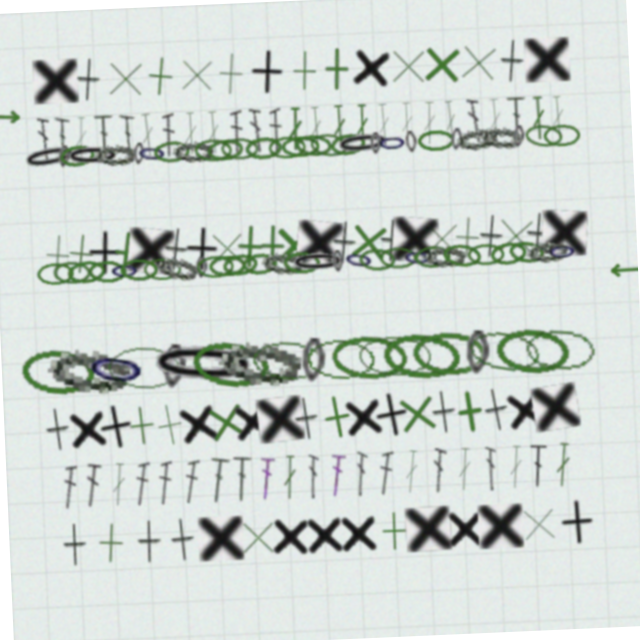chain: (145, 333, 258, 386), (461, 331, 543, 388), (187, 332, 270, 388), (44, 334, 130, 386), (215, 334, 301, 386), (379, 334, 460, 386), (17, 334, 96, 386), (492, 334, 571, 386), (246, 334, 326, 385), (328, 335, 408, 385), (519, 334, 597, 385), (103, 335, 182, 384), (354, 335, 433, 384), (301, 335, 378, 384), (409, 335, 486, 384), (81, 333, 148, 386), (29, 131, 86, 160), (343, 133, 399, 158), (158, 247, 202, 277), (158, 337, 186, 383), (298, 337, 325, 383), (73, 135, 128, 157), (293, 251, 348, 273), (463, 132, 506, 160), (463, 337, 489, 382), (444, 248, 485, 275), (317, 132, 357, 159), (510, 248, 549, 275), (488, 133, 530, 158), (264, 249, 306, 274), (529, 249, 571, 274), (532, 133, 571, 159), (337, 133, 375, 159), (302, 133, 341, 158), (69, 249, 108, 274), (492, 249, 531, 274), (66, 133, 104, 158), (224, 249, 262, 274), (90, 250, 129, 274), (214, 134, 252, 158), (361, 250, 399, 274), (102, 135, 143, 157), (180, 135, 221, 157), (427, 251, 468, 273), (228, 134, 267, 157), (345, 248, 378, 275), (202, 134, 240, 157), (252, 134, 290, 157), (55, 250, 93, 273), (122, 250, 160, 273), (285, 250, 323, 273), (382, 250, 420, 273), (161, 134, 198, 157), (244, 250, 281, 273), (417, 250, 454, 273), (276, 135, 314, 157), (289, 135, 327, 157), (146, 251, 184, 273), (425, 135, 462, 157), (551, 135, 588, 157), (39, 251, 76, 273), (199, 251, 236, 273), (211, 251, 248, 273), (470, 251, 507, 273), (144, 134, 175, 158), (405, 250, 436, 273), (385, 135, 415, 157), (112, 251, 142, 273), (550, 251, 580, 273), (65, 134, 78, 157), (458, 134, 471, 157), (520, 134, 533, 157), (140, 135, 153, 157), (413, 135, 425, 157), (198, 251, 210, 273), (378, 135, 389, 157), (335, 251, 346, 273)
double: (199, 453, 224, 499), (224, 453, 246, 498), (75, 453, 96, 498), (521, 453, 542, 498), (320, 453, 340, 498), (102, 453, 121, 498), (175, 453, 194, 498), (250, 453, 269, 498), (395, 453, 414, 498), (422, 453, 441, 498), (547, 453, 566, 498), (103, 106, 122, 150), (516, 106, 535, 150), (147, 105, 165, 150), (126, 453, 144, 498), (370, 453, 388, 498), (449, 453, 467, 498), (500, 453, 518, 498), (54, 453, 71, 498), (62, 106, 79, 150), (384, 106, 401, 150), (451, 106, 468, 150), (150, 453, 166, 498), (346, 453, 362, 498), (128, 106, 144, 150), (214, 106, 230, 150), (296, 106, 312, 150), (340, 106, 356, 150), (430, 106, 446, 150), (496, 106, 512, 150), (559, 106, 575, 150), (275, 454, 291, 498), (82, 106, 97, 150), (192, 106, 207, 150), (317, 106, 332, 150), (408, 106, 423, 150), (540, 106, 555, 150), (364, 106, 378, 150), (476, 106, 490, 150), (299, 454, 313, 498), (258, 106, 271, 150), (278, 106, 291, 150), (46, 106, 58, 150), (171, 106, 183, 150), (239, 106, 251, 150), (478, 454, 490, 498)
noise: (0, 96, 31, 110), (610, 276, 640, 290)
single: (104, 219, 154, 269), (347, 219, 397, 269), (140, 393, 190, 443), (197, 393, 247, 443), (129, 219, 179, 268), (298, 219, 348, 268), (147, 45, 196, 94), (465, 45, 514, 94), (60, 219, 109, 268), (308, 393, 357, 442), (527, 393, 576, 442), (394, 220, 443, 268), (218, 46, 266, 94), (429, 46, 477, 94), (37, 220, 85, 268), (447, 220, 495, 268), (495, 220, 543, 268), (389, 394, 437, 442), (442, 394, 490, 442), (544, 220, 592, 267), (252, 394, 300, 441), (360, 45, 406, 94), (171, 393, 217, 442), (184, 46, 231, 93), (230, 220, 277, 267), (114, 394, 161, 441), (78, 510, 125, 557), (499, 394, 544, 442), (113, 47, 159, 93), (292, 47, 338, 93), (325, 47, 371, 93), (396, 47, 442, 93), (253, 221, 299, 267), (275, 221, 321, 267), (422, 221, 468, 267), (226, 394, 271, 441), (396, 511, 442, 556), (507, 511, 552, 556), (44, 48, 89, 92), (536, 48, 581, 92), (189, 512, 234, 556), (469, 512, 514, 556), (62, 395, 105, 441), (338, 395, 381, 441), (260, 511, 303, 557), (208, 222, 252, 266), (226, 512, 270, 556), (363, 512, 407, 556), (91, 394, 131, 442), (367, 394, 407, 442), (295, 512, 336, 556), (329, 512, 370, 556), (436, 512, 477, 556), (259, 47, 296, 93), (186, 221, 223, 267), (89, 221, 125, 266), (550, 511, 585, 556), (165, 220, 194, 267), (478, 394, 507, 441), (334, 221, 362, 267), (481, 221, 509, 267), (528, 221, 556, 267), (86, 47, 113, 93), (510, 47, 537, 93), (382, 221, 409, 267), (40, 395, 67, 441), (289, 395, 316, 441), (427, 395, 453, 440), (161, 511, 186, 556), (128, 512, 152, 556), (54, 512, 77, 556)
